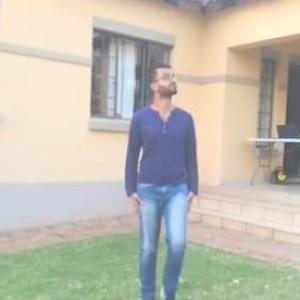follow: (128, 61, 202, 299)
